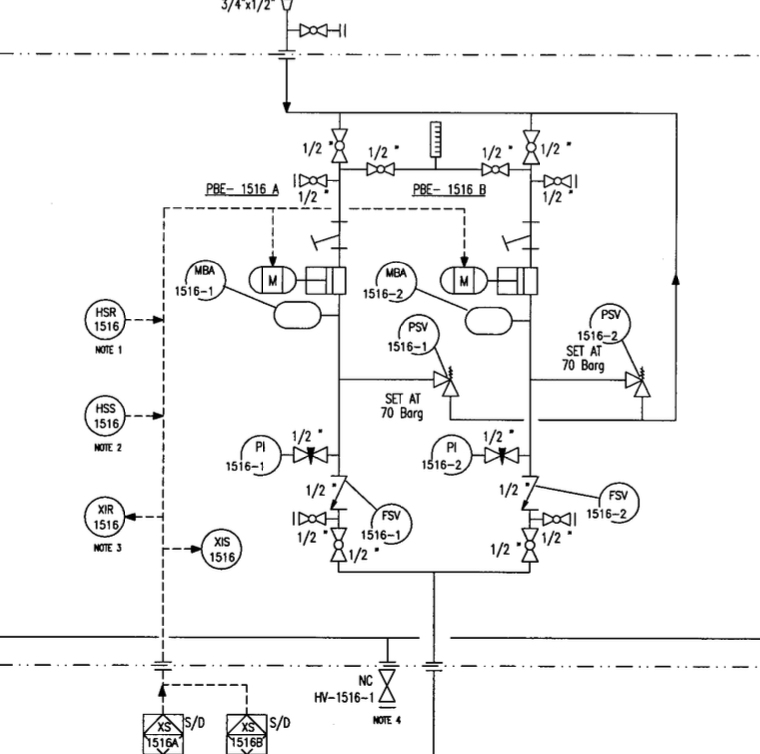Instrument: (201, 524, 244, 575), (81, 294, 127, 341), (82, 392, 128, 438), (84, 492, 127, 539)
Instrument-offset: (581, 471, 643, 529), (571, 297, 636, 346), (223, 431, 284, 483), (171, 253, 231, 305), (381, 311, 446, 358), (361, 256, 421, 304), (358, 502, 416, 550), (420, 434, 475, 481)
Instrument-square: (138, 709, 187, 752), (226, 710, 270, 754)
